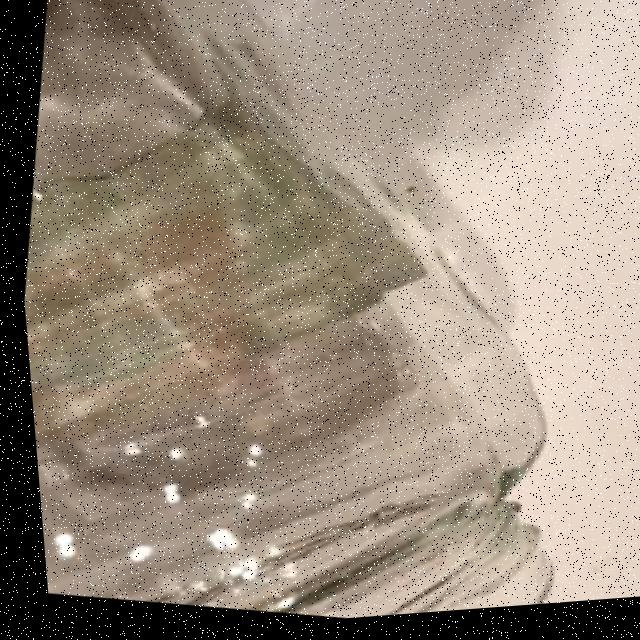glass: (0, 0, 639, 640)
